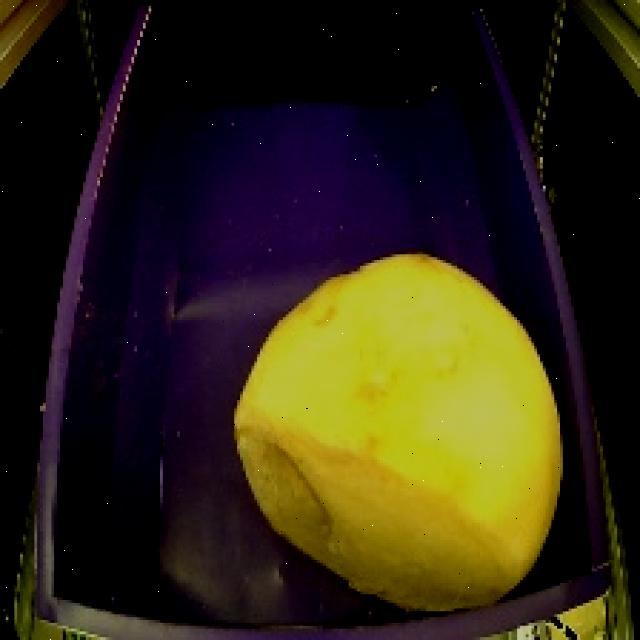full_potato: (229, 240, 568, 620)
